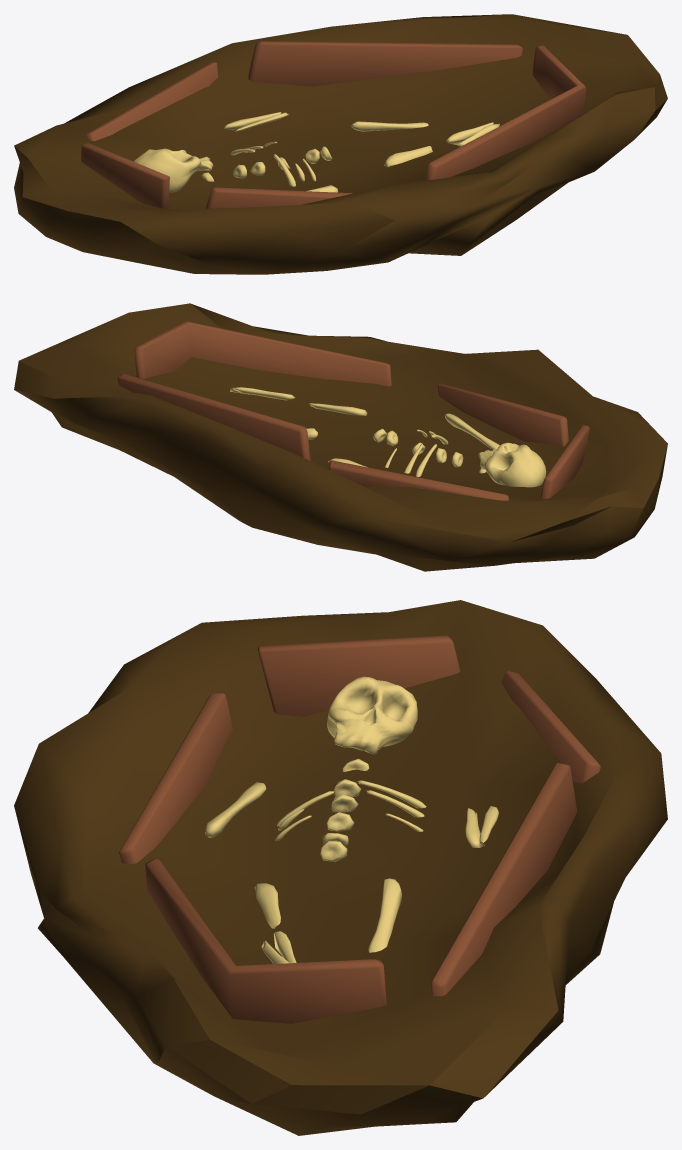
File: DugUpGrave.fbx
3 renders of one model, top to bottom at view 1: azimuth 30°, elevation 25°; view 2: azimuth 150°, elevation 25°; view 3: azimuth 270°, elevation 25°, orthographic. The views are drawn at different scales.
Parts seen in each view (by area): view 1: DugUpGrave; view 2: DugUpGrave; view 3: DugUpGrave.
Boxes of the visible parts, bbox=[...] form: DugUpGrave: bbox=[14, 14, 667, 274]; DugUpGrave: bbox=[14, 303, 667, 571]; DugUpGrave: bbox=[14, 600, 667, 1135].
Size of the model in its own units: 1279 by 304 by 734.
